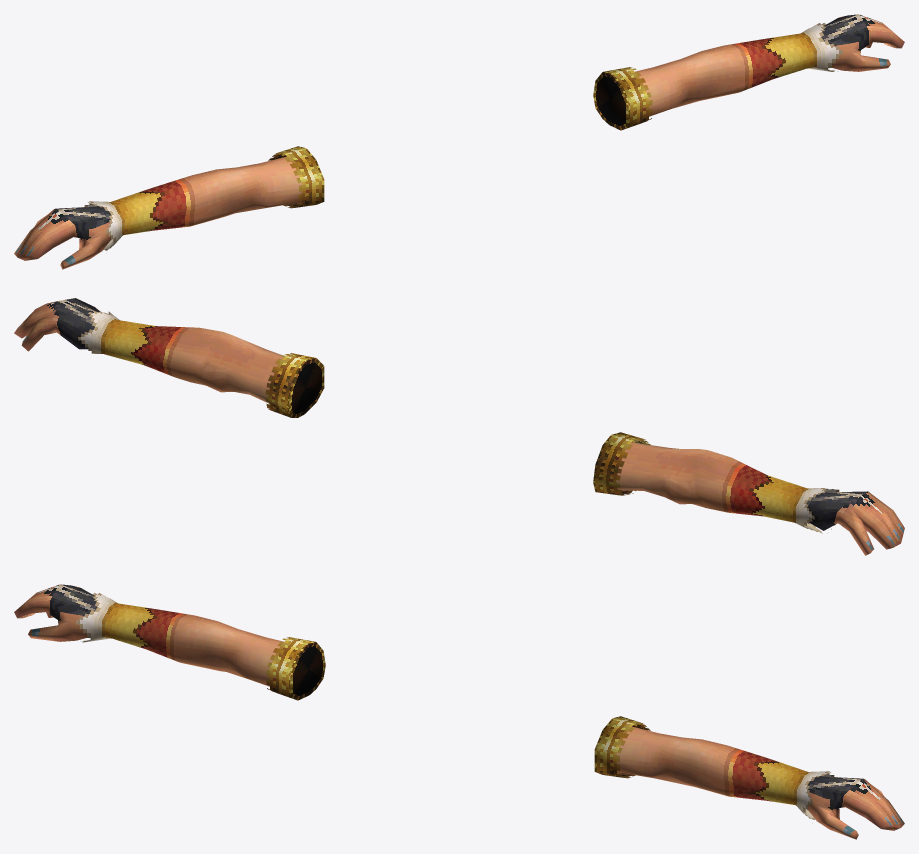
The model's file is f_gauntlet245.obj.
3 renders of one model, top to bottom at view 1: azimuth 30°, elevation 25°; view 2: azimuth 150°, elevation 25°; view 3: azimuth 330°, elevation 25°, orthographic.
Visible parts, largest first — view 1: mesh00; view 2: mesh00; view 3: mesh00.
Part boxes in pixels (x1,y1,x2,y2): mesh00: (14,14,904,269); mesh00: (14,298,904,555); mesh00: (14,584,904,839).
Bounding box in the file's own units: 173 × 10.18 × 12.79.
1 material, 1 textured.
